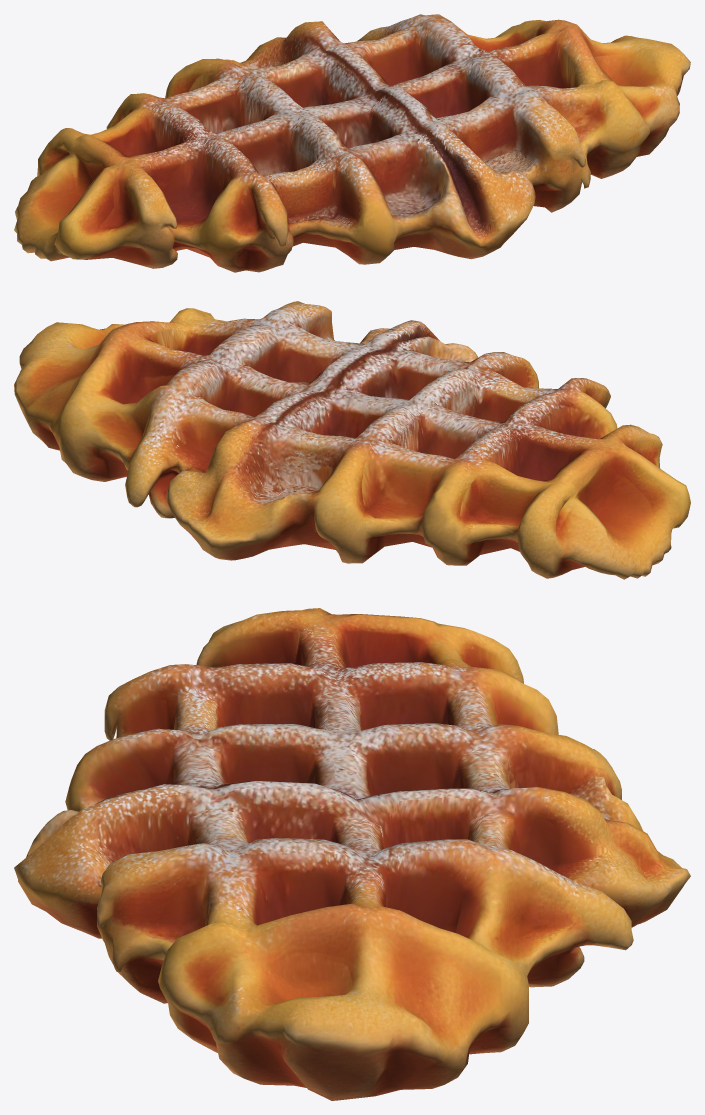
The picture shows the model from 3 angles, top to bottom: view 1: azimuth 30°, elevation 25°; view 2: azimuth 150°, elevation 25°; view 3: azimuth 270°, elevation 25°; orthographic projection. The views are drawn at different scales.
Visible parts, largest first — view 1: tripo_node_d0e9f7d5-06ad-40b7-ab0d-aa97a79cdeab; view 2: tripo_node_d0e9f7d5-06ad-40b7-ab0d-aa97a79cdeab; view 3: tripo_node_d0e9f7d5-06ad-40b7-ab0d-aa97a79cdeab.
Boxes of the visible parts, x1,y1,x2,y2 form: tripo_node_d0e9f7d5-06ad-40b7-ab0d-aa97a79cdeab: (14,14,690,272); tripo_node_d0e9f7d5-06ad-40b7-ab0d-aa97a79cdeab: (14,301,690,579); tripo_node_d0e9f7d5-06ad-40b7-ab0d-aa97a79cdeab: (14,608,690,1100).
Size of the model in its own units: 0.998 by 0.1738 by 0.6699.
Materials: 1 (1 with a texture image).
